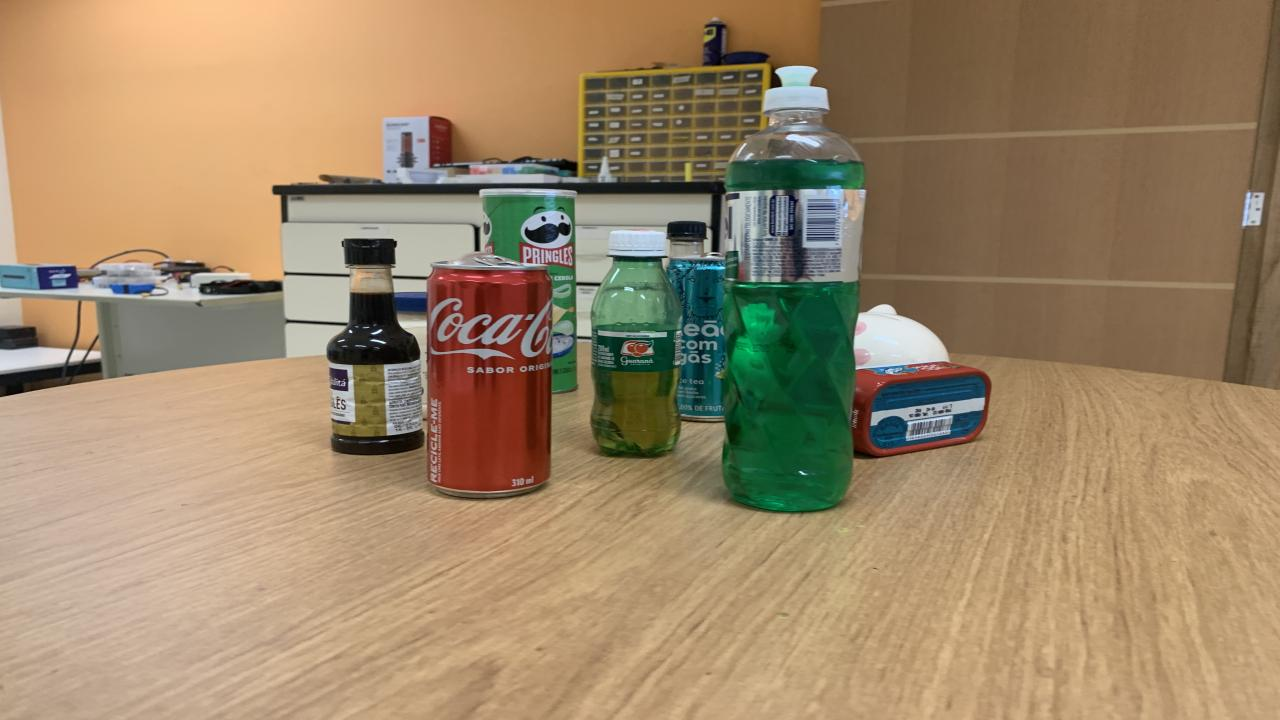Coke-Drinks: (428, 262, 552, 497)
Detergent-Cleanup_Items: (722, 84, 865, 512)
English_Sauce-Pantry_Items: (328, 240, 425, 454)
Guarana-Drinks: (590, 231, 682, 456)
Pig_Safe-Miscellaneous: (855, 304, 950, 368)
Pringles-Snacks: (480, 188, 578, 392)
Soda-Drinks: (668, 221, 708, 257)
Tea-Drinks: (668, 255, 725, 422)
Tuna_Can-Pantry_Items: (850, 349, 990, 458)
